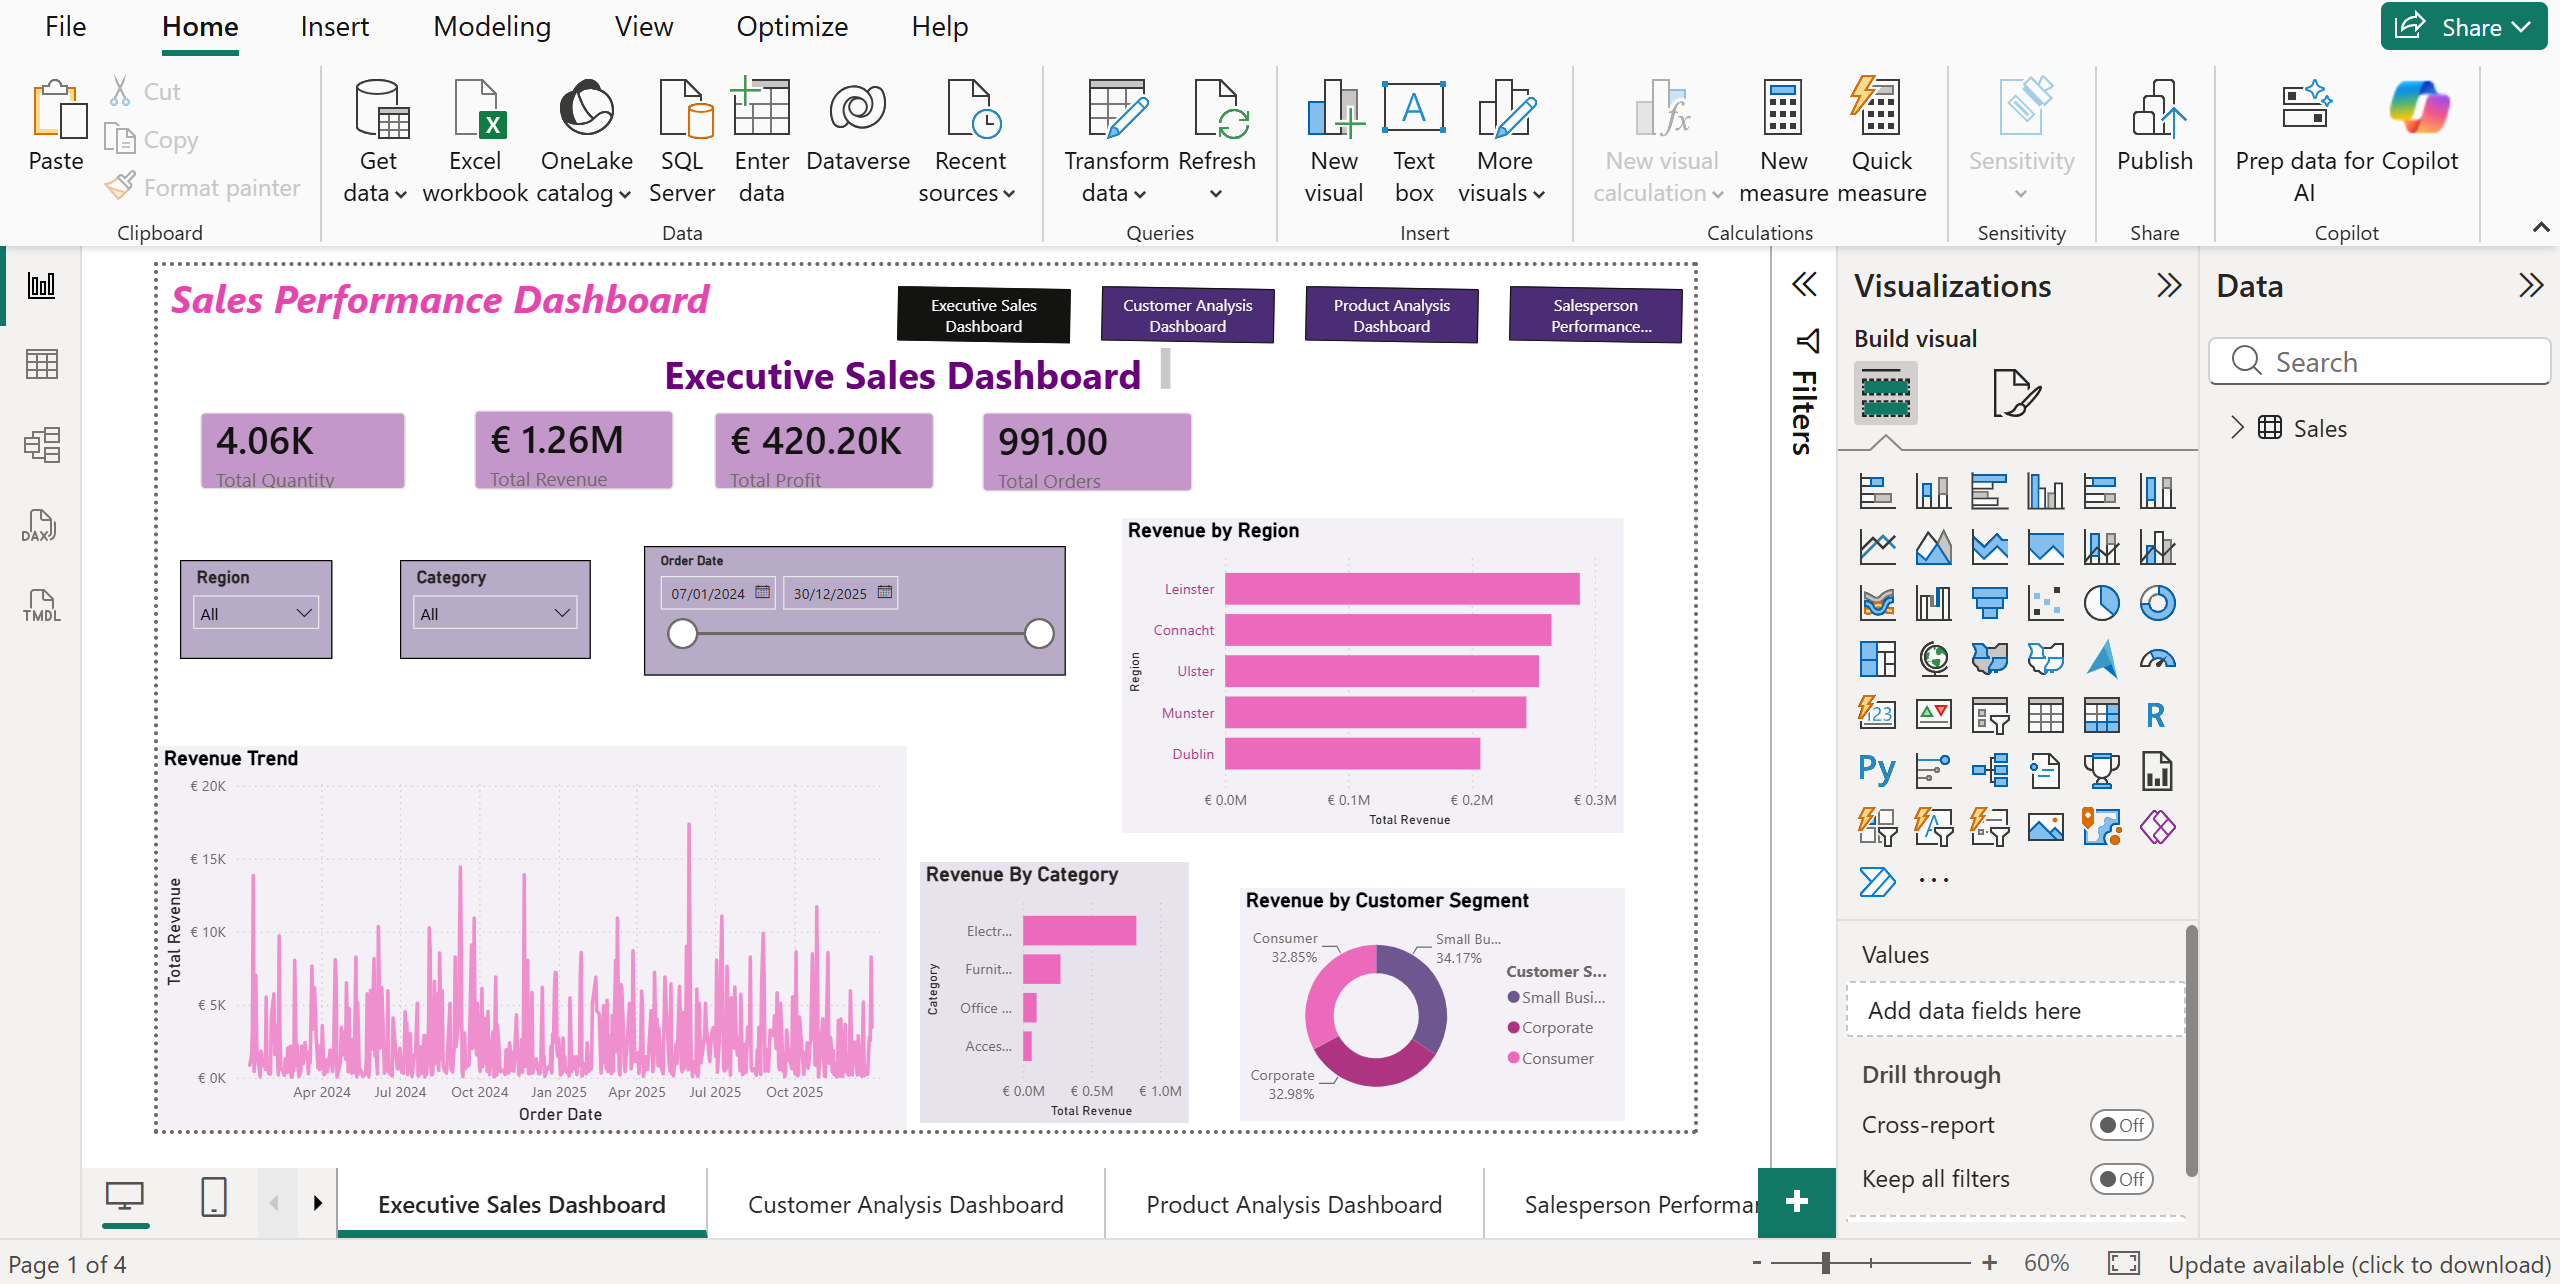

The page's visual inventory and layout, read from the dashboard file:
{"tool":"powerbi","page":{"name":"Executive Sales Dashboard","canvas":[1280,720],"ordinal":0},"visuals":[{"type":"cardVisual","fields":{"Data":["Sales.Total Quantity"]},"box":[18.7,105.2,205,98.5],"z":0},{"type":"cardVisual","fields":{"Data":["Sales.Total Revenue"]},"box":[246,103.7,200.3,100.1],"z":1000},{"type":"cardVisual","fields":{"Data":["Sales.Total Profit"]},"box":[446.3,105.2,217.7,98.5],"z":2000},{"type":"cardVisual","fields":{"Data":["Sales.Total Orders"]},"box":[670.4,105.2,209.8,100.1],"z":3000},{"type":"textbox","box":[0,0,470,52.9],"z":4000},{"type":"textbox","box":[416,64,432,48],"z":5000},{"type":"lineChart","title":"Revenue Trend","fields":{"Category":["Sales.Order Date"],"Y":["Sales.Total Revenue"]},"box":[0,400,624,320],"z":6000},{"type":"clusteredBarChart","title":"Revenue By Category","fields":{"Category":["Sales.Category"],"Y":["Sales.Total Revenue"]},"box":[635.4,496.2,224.1,217.7],"z":7000},{"type":"donutChart","title":"Revenue by Customer Segment","fields":{"Category":["Sales.Customer Segment"],"Y":["Sales.Total Revenue"]},"box":[900.8,518.5,321.1,193.9],"z":8000},{"type":"barChart","title":"Revenue by Region","fields":{"Category":["Sales.Region"],"Y":["Sales.Total Revenue"]},"box":[803.9,210.1,418,262.3],"z":9000},{"type":"slicer","fields":{"Values":["Sales.Region"]},"box":[18.7,245.1,127.2,82.6],"z":10000},{"type":"slicer","fields":{"Values":["Sales.Category"]},"box":[201.5,245.1,158.9,82.6],"z":11000},{"type":"slicer","fields":{"Values":["Sales.Order Date"]},"box":[404.9,234,351.3,108.1],"z":12000},{"type":"pageNavigator","box":[608,16,672,48],"z":13000}]}

Visuals, with their boxes on the page's 1280x720 design canvas (x1, y1, x2, y2). These are canvas units, not pixel positions in the 2560x1284 screenshot, which may show the page scaled, cropped or inside an application window:
cardVisual - Sales.Total Quantity: BBox(19, 105, 224, 204)
cardVisual - Sales.Total Revenue: BBox(246, 104, 446, 204)
cardVisual - Sales.Total Profit: BBox(446, 105, 664, 204)
cardVisual - Sales.Total Orders: BBox(670, 105, 880, 205)
textbox: BBox(0, 0, 470, 53)
textbox: BBox(416, 64, 848, 112)
"Revenue Trend" lineChart: BBox(0, 400, 624, 720)
"Revenue By Category" clusteredBarChart: BBox(635, 496, 860, 714)
"Revenue by Customer Segment" donutChart: BBox(901, 518, 1222, 712)
"Revenue by Region" barChart: BBox(804, 210, 1222, 472)
slicer - Sales.Region: BBox(19, 245, 146, 328)
slicer - Sales.Category: BBox(202, 245, 360, 328)
slicer - Sales.Order Date: BBox(405, 234, 756, 342)
pageNavigator: BBox(608, 16, 1280, 64)
